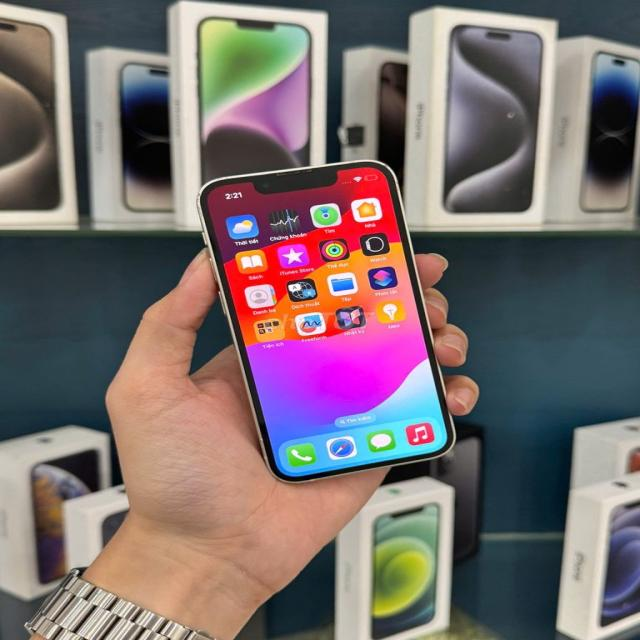gen_12_13: (197, 158, 462, 486)
